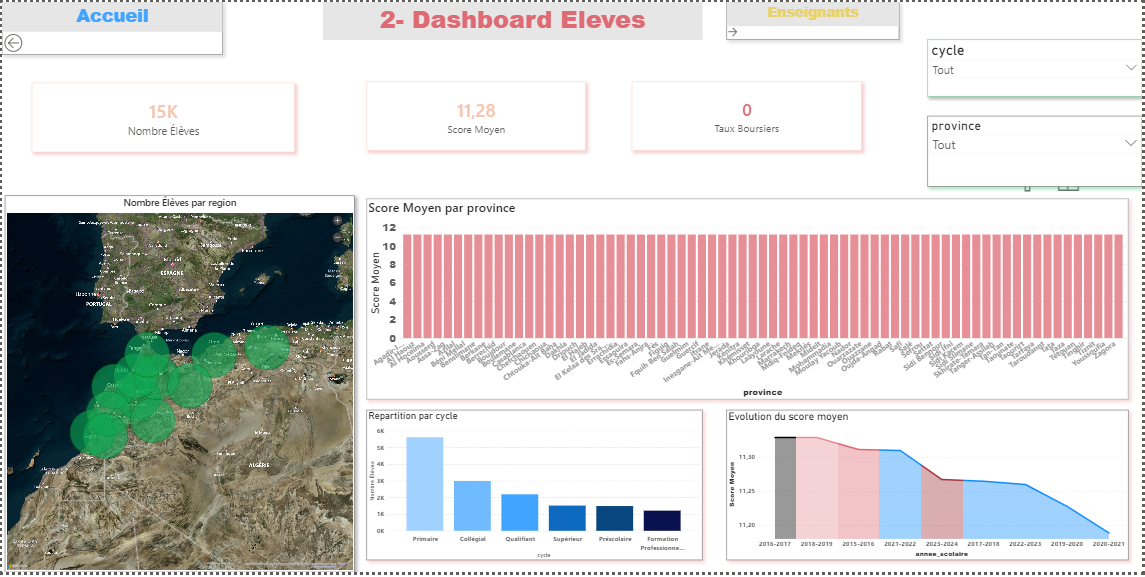

The dashboard page shown, as its layout file describes it:
{"tool":"powerbi","page":{"name":"Eleves","canvas":[3800,1900],"ordinal":1},"visuals":[{"type":"map","fields":{"Category":["gold dim_region.region"],"Size":["Mesures.Nombre Élèves"]},"box":[10,645,1165,1255],"z":1},{"type":"columnChart","fields":{"Category":["gold dim_province.province"],"Y":["Mesures.Score Moyen"]},"box":[1215,655,2540,670],"z":2},{"type":"columnChart","title":"Repartition par cycle","fields":{"Y":["Mesures.Nombre Élèves"],"Category":["gold dim_cycle.cycle"]},"box":[1215,1360,1120,500],"z":3},{"type":"lineChart","title":"Evolution du score moyen","fields":{"Category":["gold dim_date.annee_scolaire"],"Y":["Mesures.Score Moyen"]},"box":[2415,1360,1340,500],"z":4},{"type":"cardVisual","fields":{"Data":["Mesures.Nombre Élèves"]},"box":[100,270,875,230],"z":5},{"type":"cardVisual","fields":{"Data":["Mesures.Score Moyen"]},"box":[1215,265,730,230],"z":6},{"type":"cardVisual","fields":{"Data":["Mesures.Taux Boursiers"]},"box":[2100,265,765,230],"z":7},{"type":"textbox","title":"2-   Dashboard Eleves ","box":[1070,0,1265,125],"z":8},{"type":"slicer","fields":{"Values":["gold dim_cycle.cycle"]},"box":[3085,125,715,190],"z":9},{"type":"slicer","fields":{"Values":["gold dim_province.province"]},"box":[3085,380,715,235],"z":10},{"type":"actionButton","title":"Accueil","box":[0,0,735,175],"z":11},{"type":"actionButton","title":"Enseignants","box":[2415,0,575,125],"z":12}]}

Visuals, with their boxes in screenshot pixels (x1, y1, x2, y2), scaled from the page's 3800x1900 canvas onto the 1145x577 screenshot:
map - gold dim_region.region x Mesures.Nombre Élèves: <bbox>3, 196, 354, 576</bbox>
columnChart - gold dim_province.province x Mesures.Score Moyen: <bbox>366, 199, 1131, 402</bbox>
"Repartition par cycle" columnChart: <bbox>366, 413, 704, 565</bbox>
"Evolution du score moyen" lineChart: <bbox>728, 413, 1131, 565</bbox>
cardVisual - Mesures.Nombre Élèves: <bbox>30, 82, 294, 152</bbox>
cardVisual - Mesures.Score Moyen: <bbox>366, 80, 586, 150</bbox>
cardVisual - Mesures.Taux Boursiers: <bbox>633, 80, 863, 150</bbox>
"2-   Dashboard Eleves " textbox: <bbox>322, 0, 704, 38</bbox>
slicer - gold dim_cycle.cycle: <bbox>930, 38, 1144, 96</bbox>
slicer - gold dim_province.province: <bbox>930, 115, 1144, 187</bbox>
"Accueil" actionButton: <bbox>0, 0, 221, 53</bbox>
"Enseignants" actionButton: <bbox>728, 0, 901, 38</bbox>
